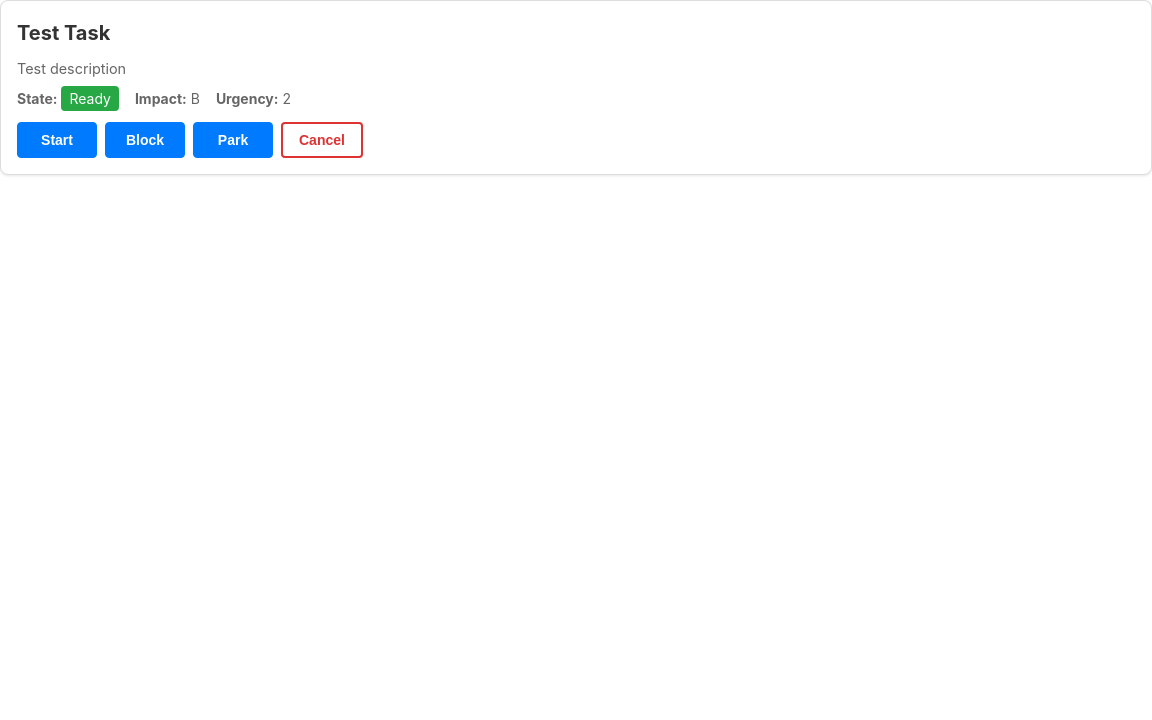
Test: TaskCard › shows confirmation dialog for Cancel button
Click the button "Cancel" at (322, 140), box [281, 122, 363, 158]
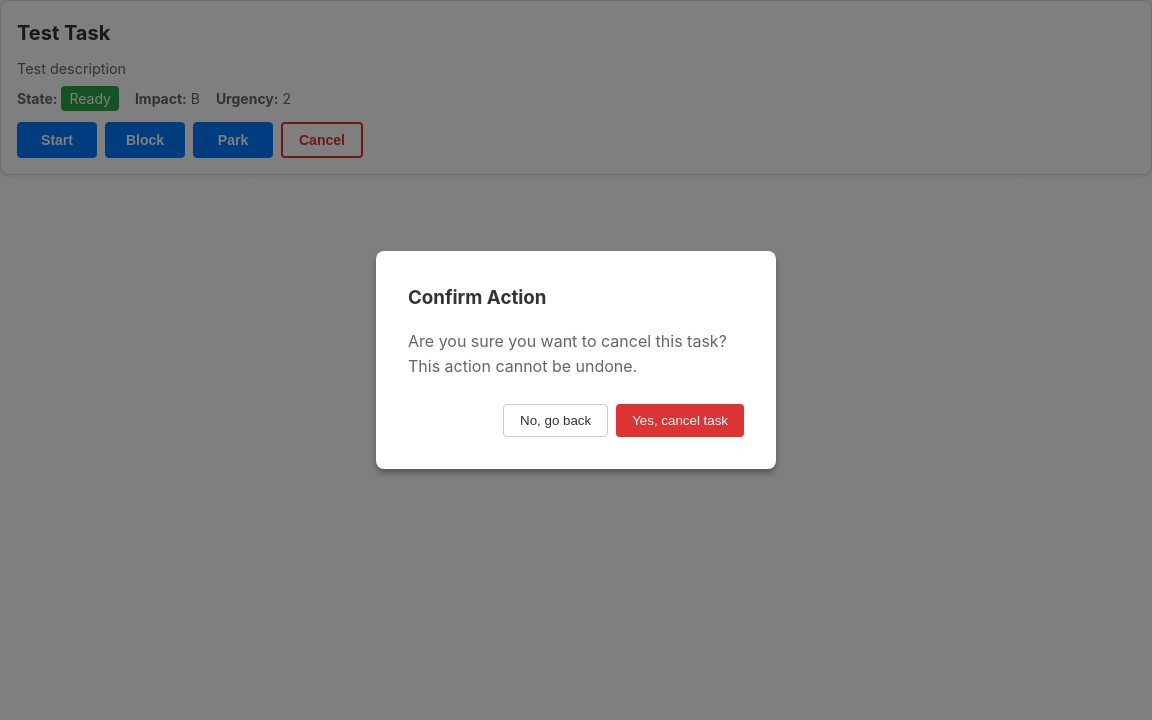
Check: the heading "Confirm Action" is shown, box [408, 286, 546, 309]
Check: the text "Are you sure you want to cancel this task" is shown, box [408, 331, 727, 376]
